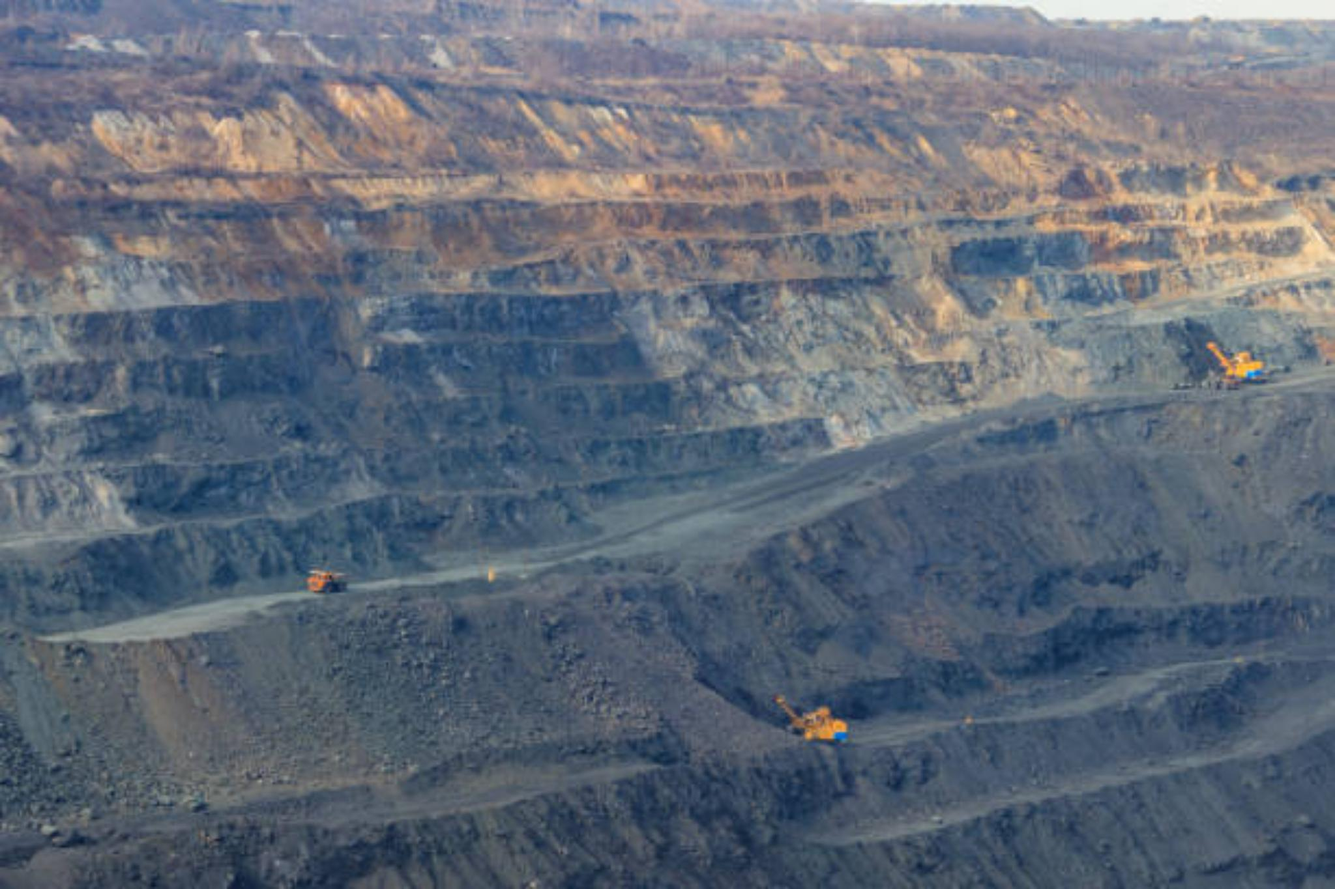benches: (493, 388, 1162, 575), (44, 593, 305, 641), (353, 564, 482, 588)
excavator: (760, 690, 855, 745), (1216, 327, 1281, 392)
truck: (305, 559, 347, 594)
